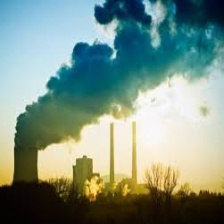smoke: (15, 1, 222, 149)
